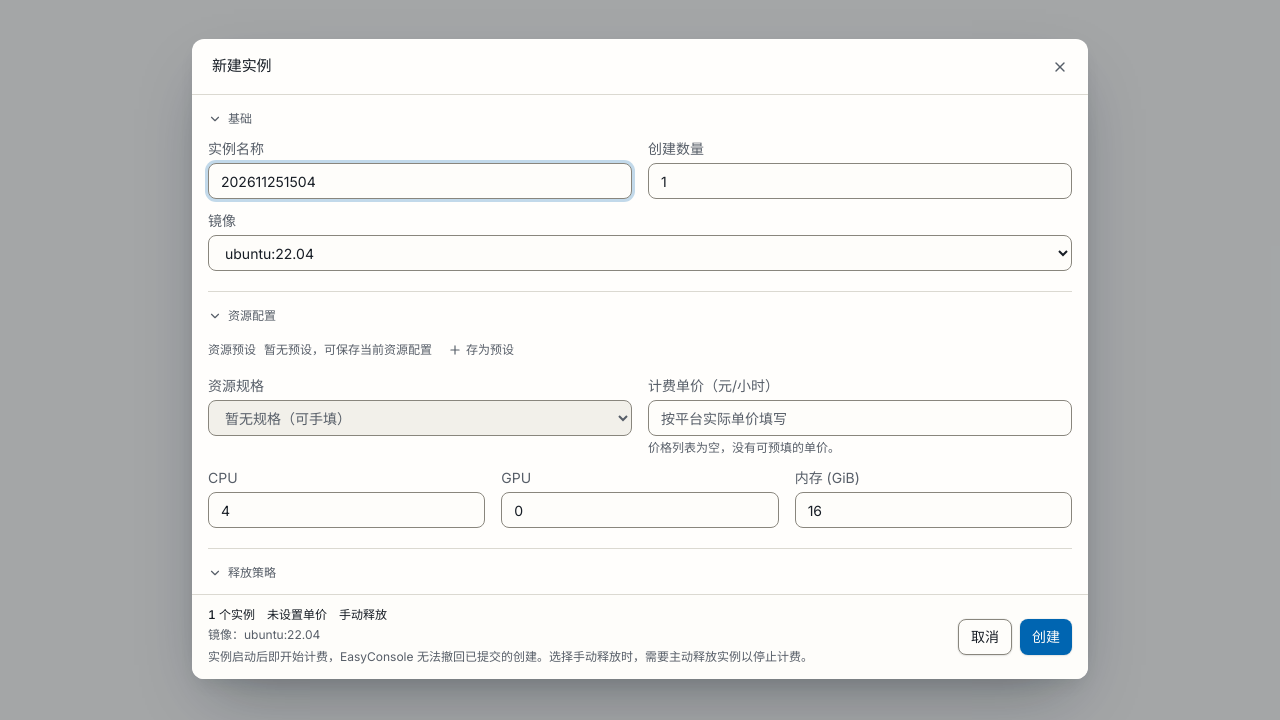
it: CreateTaskDialog › saves the current resource values as a named preset
Check: the heading "新建实例" is shown, box [212,55,271,78]
Replace the text in the number field labelled "CPU" with "12" at (347, 510), box [208,492,485,528]
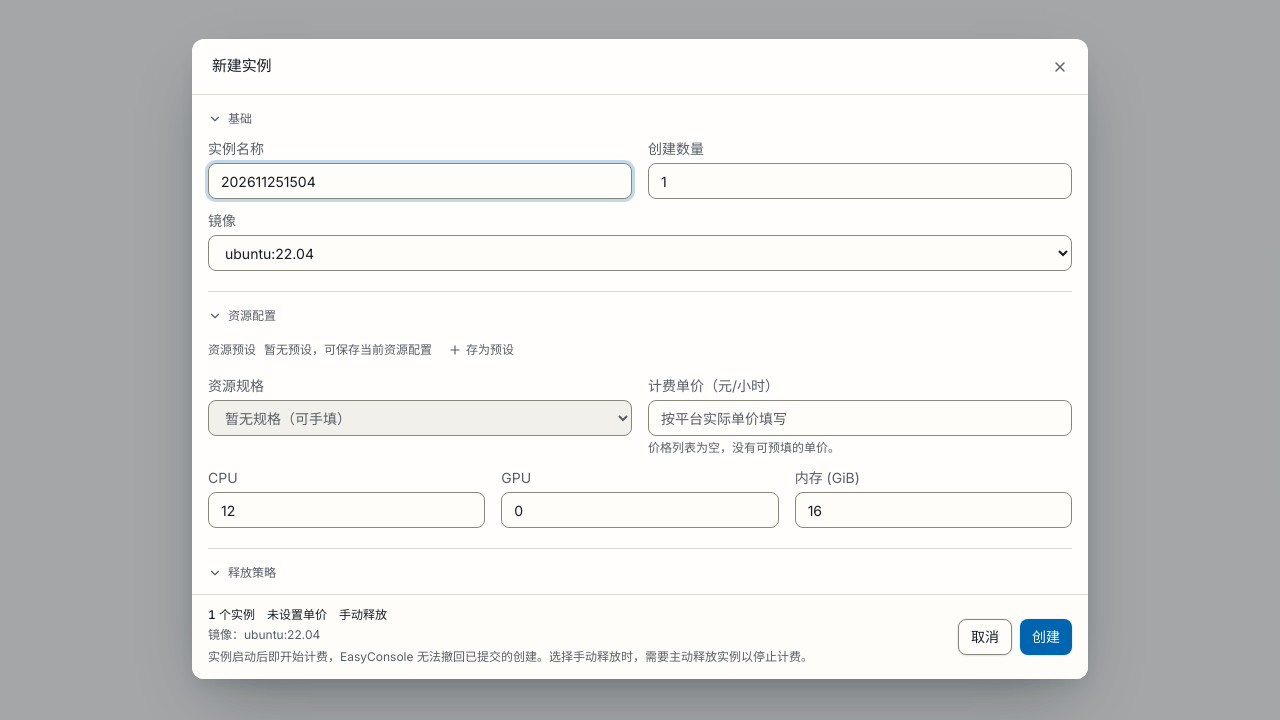
Click the button "存为预设" at (481, 350), box [440,336,522,364]
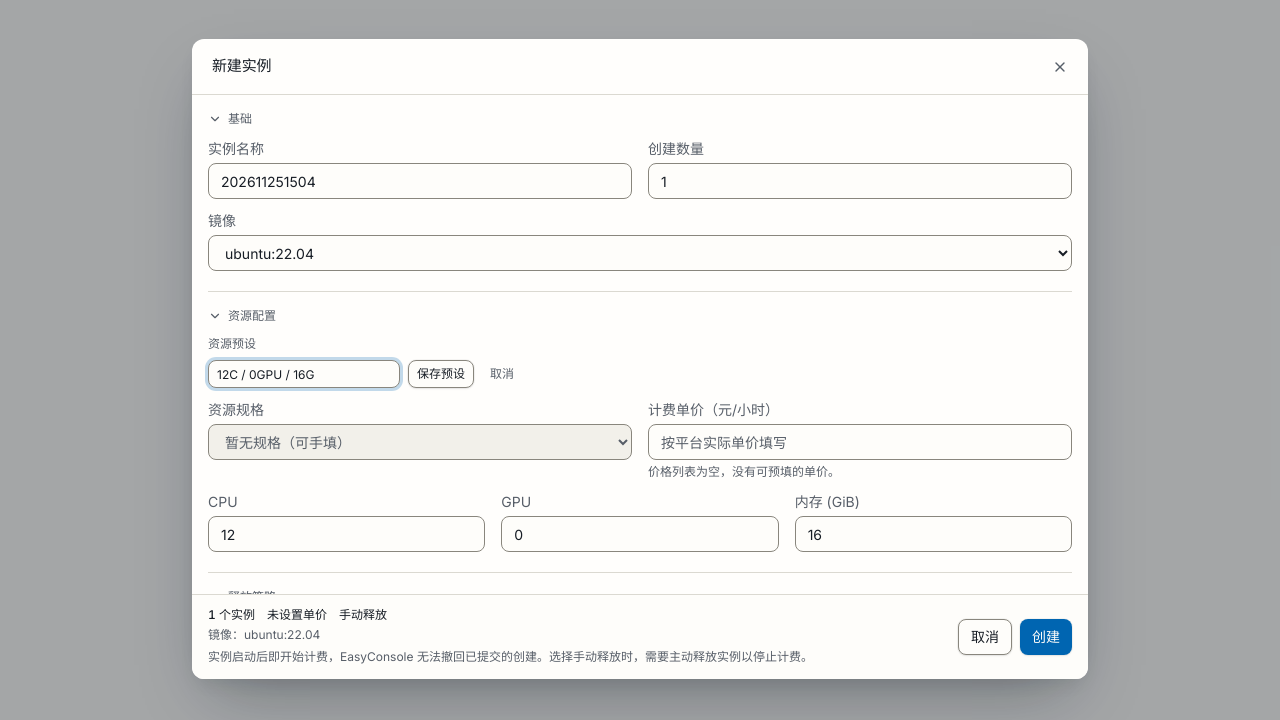
Check: the field named "预设名称" holds "12C / 0GPU / 16G"
Replace the text in the field named "预设名称" with "编译机" at (304, 374), box [208,360,400,388]
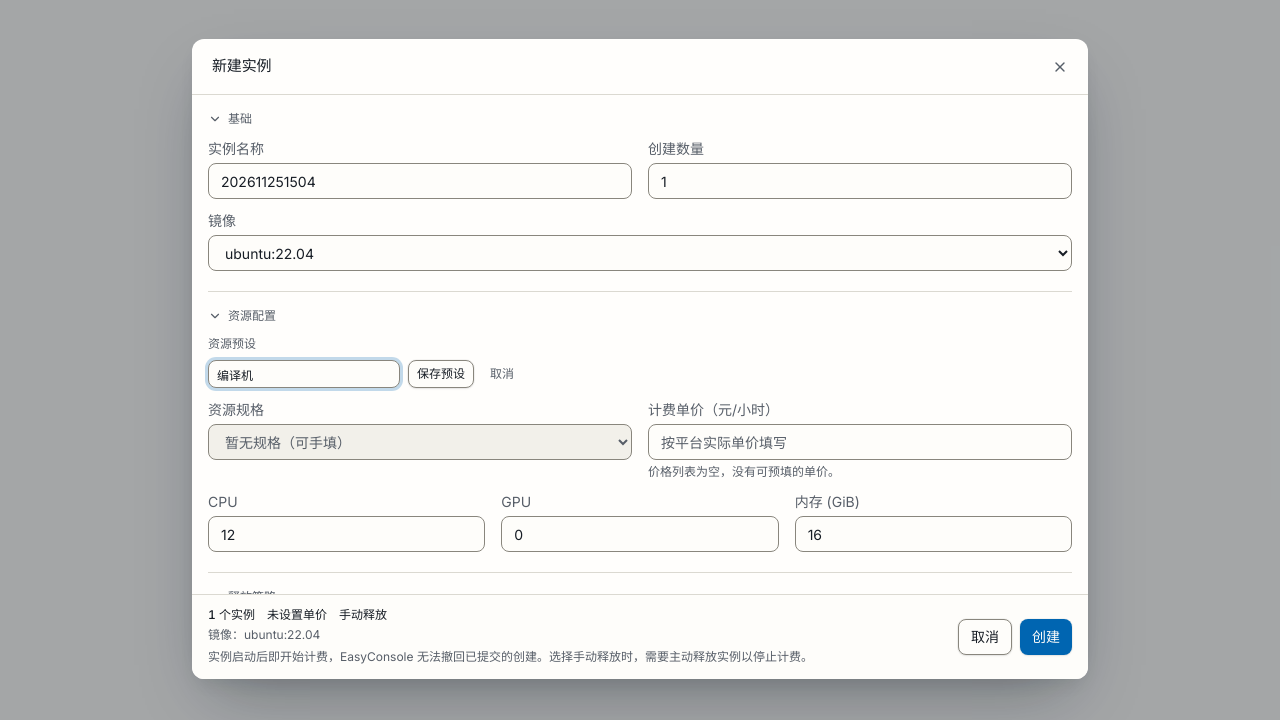
Click the button "保存预设" at (441, 374), box [408,360,474,388]
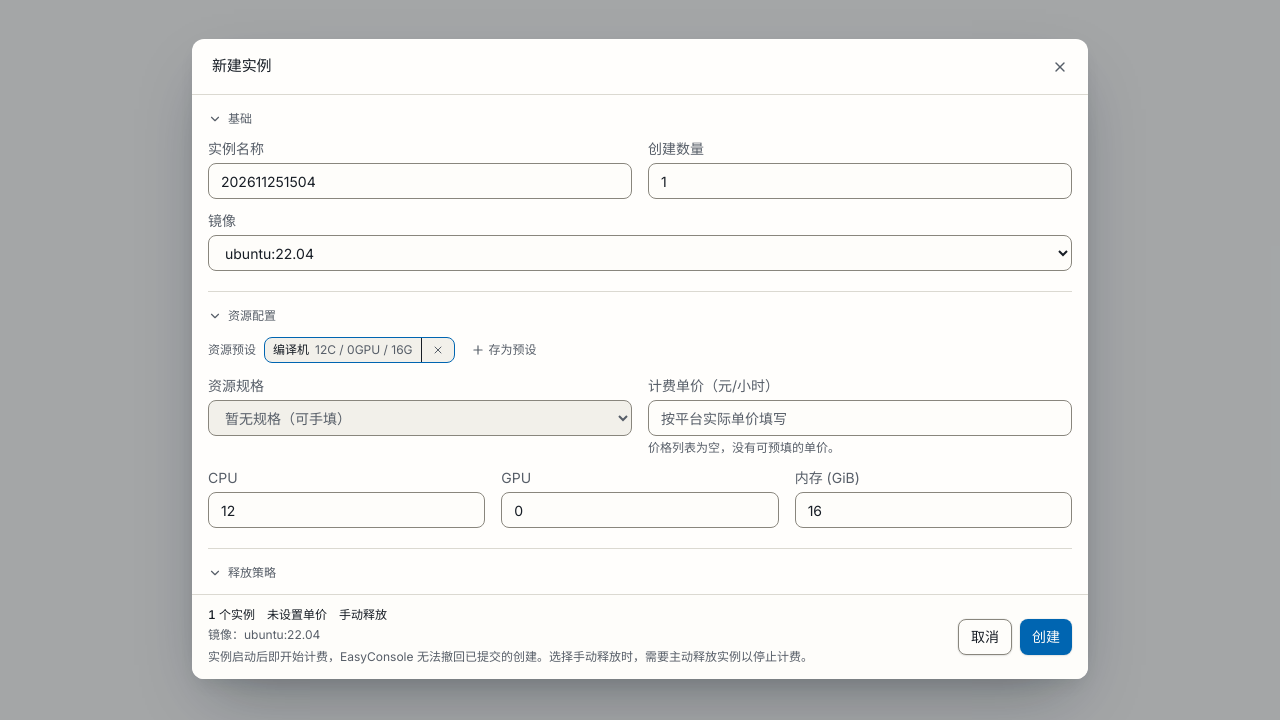
Check: the button with aria-label "应用预设 编译机（12C / 0GPU / 16G）" is shown, box [265,338,422,362]
